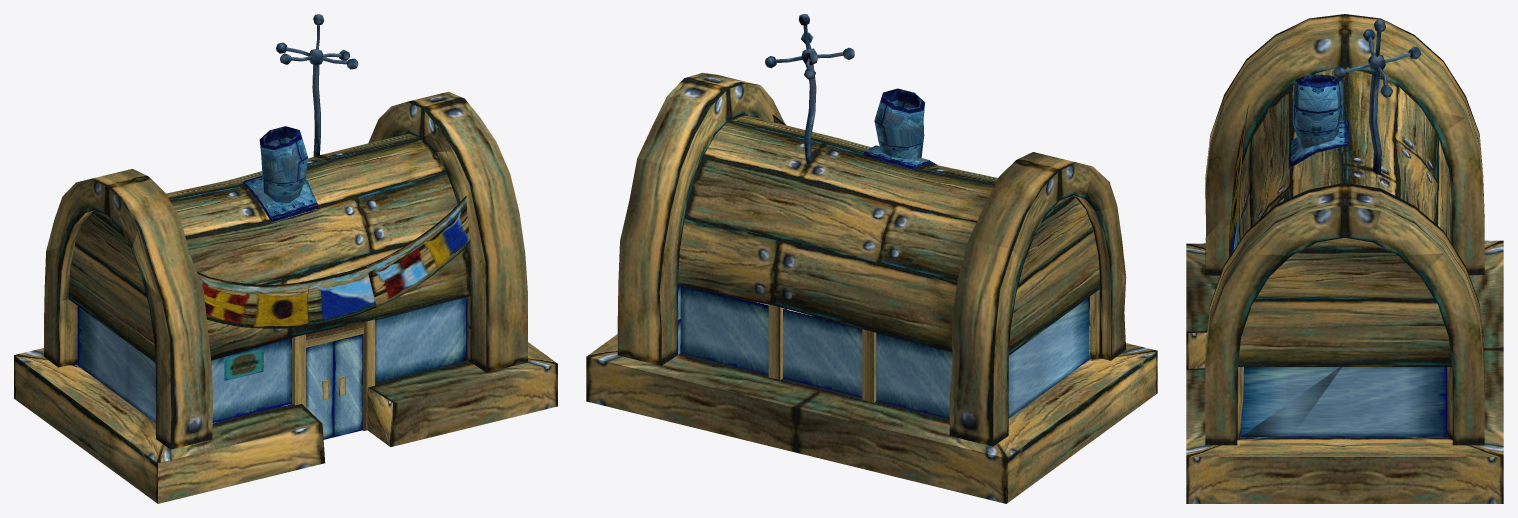
File: the_krusty_krab_3d_model.glb
The picture shows the model from 3 angles, left to right: view 1: azimuth 30°, elevation 25°; view 2: azimuth 150°, elevation 25°; view 3: azimuth 270°, elevation 25°; orthographic projection. The views are drawn at different scales.
Visible parts, largest first — view 1: Object_6, Object_2, Object_4, Object_5, Object_3; view 2: Object_6, Object_2, Object_5, Object_3; view 3: Object_6, Object_2, Object_5, Object_4.
Part boxes in pixels (left/top/right/bottom): Object_6: left=14, top=91, right=557, bottom=503; Object_2: left=77, top=14, right=467, bottom=439; Object_4: left=197, top=195, right=470, bottom=380; Object_5: left=242, top=126, right=317, bottom=222; Object_3: left=290, top=319, right=375, bottom=430; Object_6: left=586, top=72, right=1157, bottom=503; Object_2: left=678, top=14, right=1089, bottom=418; Object_5: left=863, top=88, right=936, bottom=170; Object_3: left=768, top=304, right=876, bottom=402; Object_6: left=1186, top=14, right=1503, bottom=503; Object_2: left=1240, top=19, right=1447, bottom=437; Object_5: left=1289, top=74, right=1348, bottom=168; Object_4: left=1229, top=105, right=1248, bottom=256.
Size of the model in its own units: 4.38 by 3.81 by 2.73.
5 materials, 5 textured.
